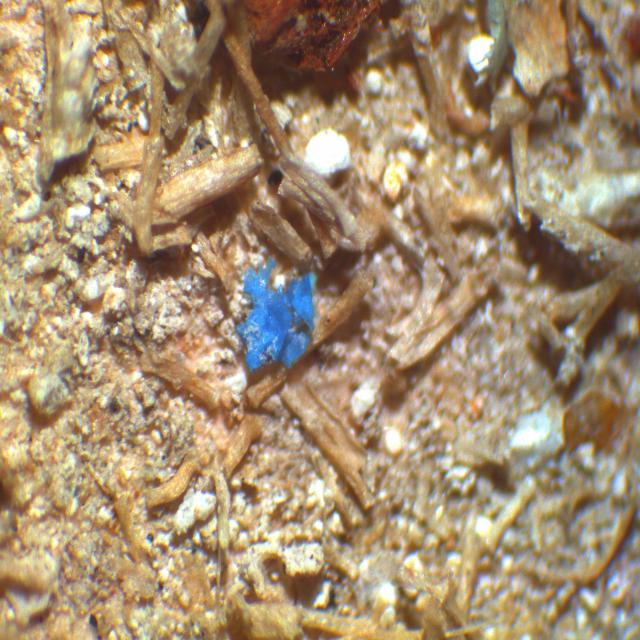microplastic: (236, 257, 316, 372)
